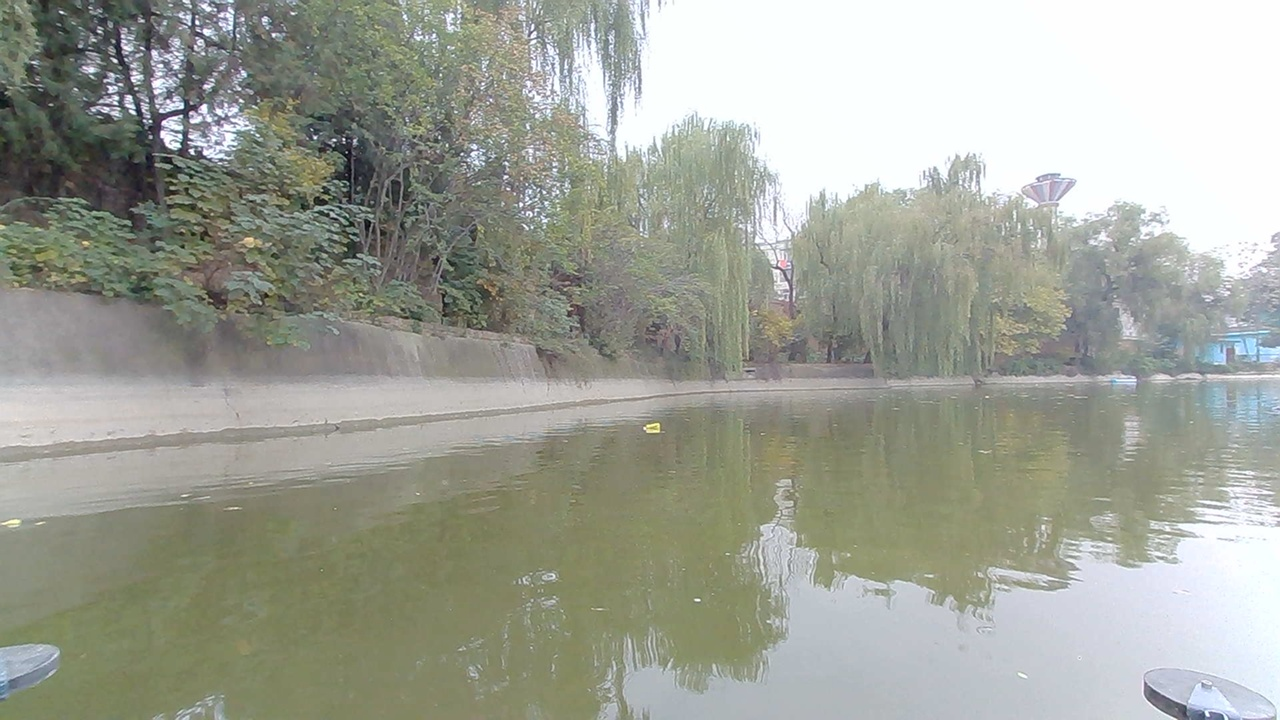bottle: (638, 417, 672, 440)
